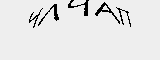А: (94, 1, 120, 24)
Л: (39, 1, 61, 24)
П: (117, 7, 132, 26)
Ч: (26, 9, 44, 30), (65, 1, 88, 17)
